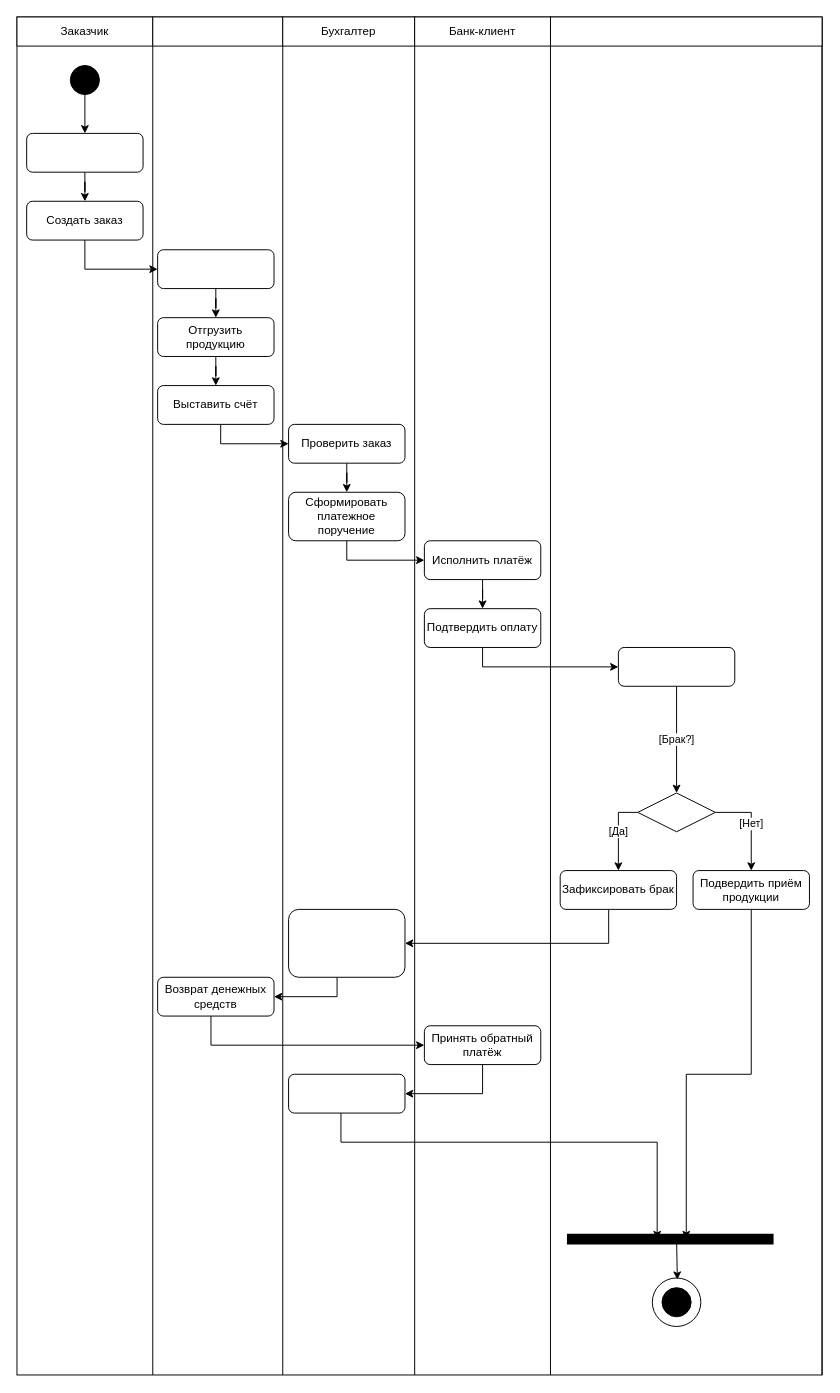
This 840x1393 diagram has some shape labels left out. The centre of each missing label's shape, as x and y in pixels:
Выбрать поставщика: (84,152)
Оформить требование о возврате продукции и денежных средств: (346,942)
Подтвердить возврат денежных средст: (346,1093)
Подтвердить заказ: (215,269)
Поставщик: (217,31)
Принять продукцию: (676,666)
Склад: (686,31)
